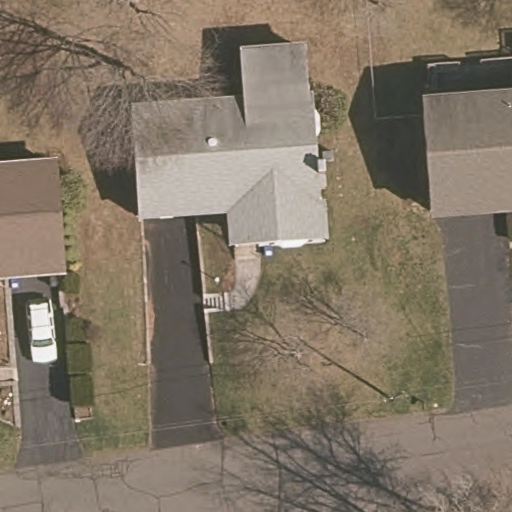DT: (375, 385, 415, 411)
